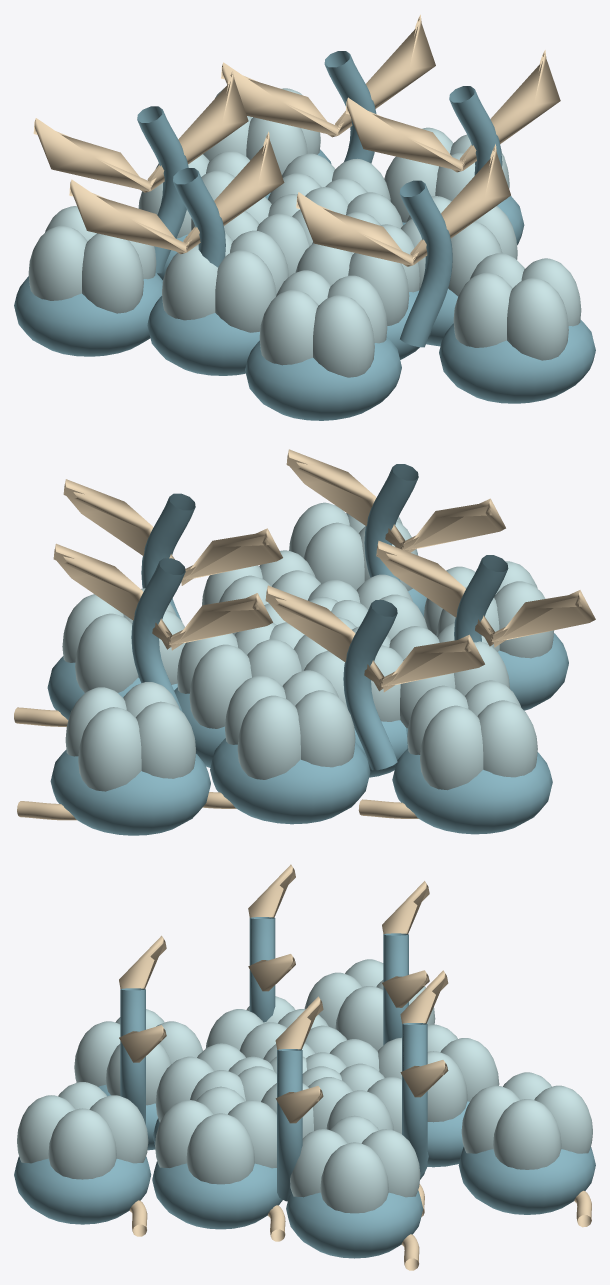
File: bio_oxygen_reef_12_near.glb
3 renders of one model, top to bottom at view 1: azimuth 30°, elevation 25°; view 2: azimuth 150°, elevation 25°; view 3: azimuth 270°, elevation 25°, orthographic. The views are drawn at different scales.
Visible parts, largest first — view 1: Lobed gas sac.028, Lobed gas sac.040, Lobed gas sac.036, Lobed gas sac.016, Photosynthetic cushion.010, Photosynthetic cushion.007, Photosynthetic cushion.009, Secondary fan lobe.008, Secondary fan lobe.004, Secondary fan lobe, Secondary fan lobe.002, Secondary fan lobe.006 (+17 smaller); view 2: Lobed gas sac.044, Lobed gas sac.024, Lobed gas sac.036, Photosynthetic cushion.011, Photosynthetic cushion.006, Photosynthetic cushion.009, Lobed gas sac.012, Lobed gas sac.032, Secondary fan lobe.002, Secondary fan lobe.006, Secondary fan lobe.008, Secondary fan lobe.004 (+20 smaller); view 3: Lobed gas sac.044, Lobed gas sac.040, Lobed gas sac.032, Lobed gas sac.020, Photosynthetic cushion.011, Photosynthetic cushion.010, Photosynthetic cushion.008, Photosynthetic cushion.005, Lobed gas sac.024, Lobed gas sac.028, Lobed gas sac.036, Lobed gas sac.012 (+15 smaller).
Boxes of the visible parts, x1,y1,x2,y2 form: Lobed gas sac.028: (259, 270, 387, 377); Lobed gas sac.040: (453, 253, 581, 360); Lobed gas sac.036: (28, 206, 156, 313); Lobed gas sac.016: (162, 230, 288, 332); Photosynthetic cushion.010: (439, 319, 595, 403); Photosynthetic cushion.007: (245, 337, 401, 420); Photosynthetic cushion.009: (14, 272, 162, 356); Secondary fan lobe.008: (69, 131, 284, 254); Secondary fan lobe.004: (296, 144, 510, 266); Secondary fan lobe: (345, 50, 560, 172); Secondary fan lobe.002: (33, 70, 248, 192); Secondary fan lobe.006: (221, 14, 435, 137); Lobed gas sac.044: (65, 682, 195, 791); Lobed gas sac.024: (225, 670, 355, 779); Lobed gas sac.036: (407, 680, 537, 790); Photosynthetic cushion.011: (50, 750, 210, 835); Photosynthetic cushion.006: (210, 738, 370, 824); Photosynthetic cushion.009: (392, 748, 552, 834); Lobed gas sac.012: (177, 623, 301, 728); Lobed gas sac.032: (62, 588, 185, 692); Secondary fan lobe.002: (265, 585, 484, 692); Secondary fan lobe.006: (53, 543, 272, 650); Secondary fan lobe.008: (376, 540, 595, 647); Secondary fan lobe.004: (286, 449, 505, 552); Lobed gas sac.044: (461, 1072, 592, 1169); Lobed gas sac.040: (17, 1082, 148, 1179); Lobed gas sac.032: (290, 1115, 420, 1213); Lobed gas sac.020: (155, 1086, 276, 1184); Photosynthetic cushion.011: (458, 1147, 595, 1214); Photosynthetic cushion.010: (14, 1156, 151, 1224); Photosynthetic cushion.008: (286, 1190, 423, 1258); Photosynthetic cushion.005: (152, 1161, 282, 1229); Lobed gas sac.024: (378, 1024, 499, 1122); Lobed gas sac.028: (74, 1009, 202, 1105); Lobed gas sac.036: (304, 959, 435, 1051); Lobed gas sac.012: (308, 1063, 401, 1133).
Bounding box in the file's own units: 1.86 × 0.765 × 2.03.
